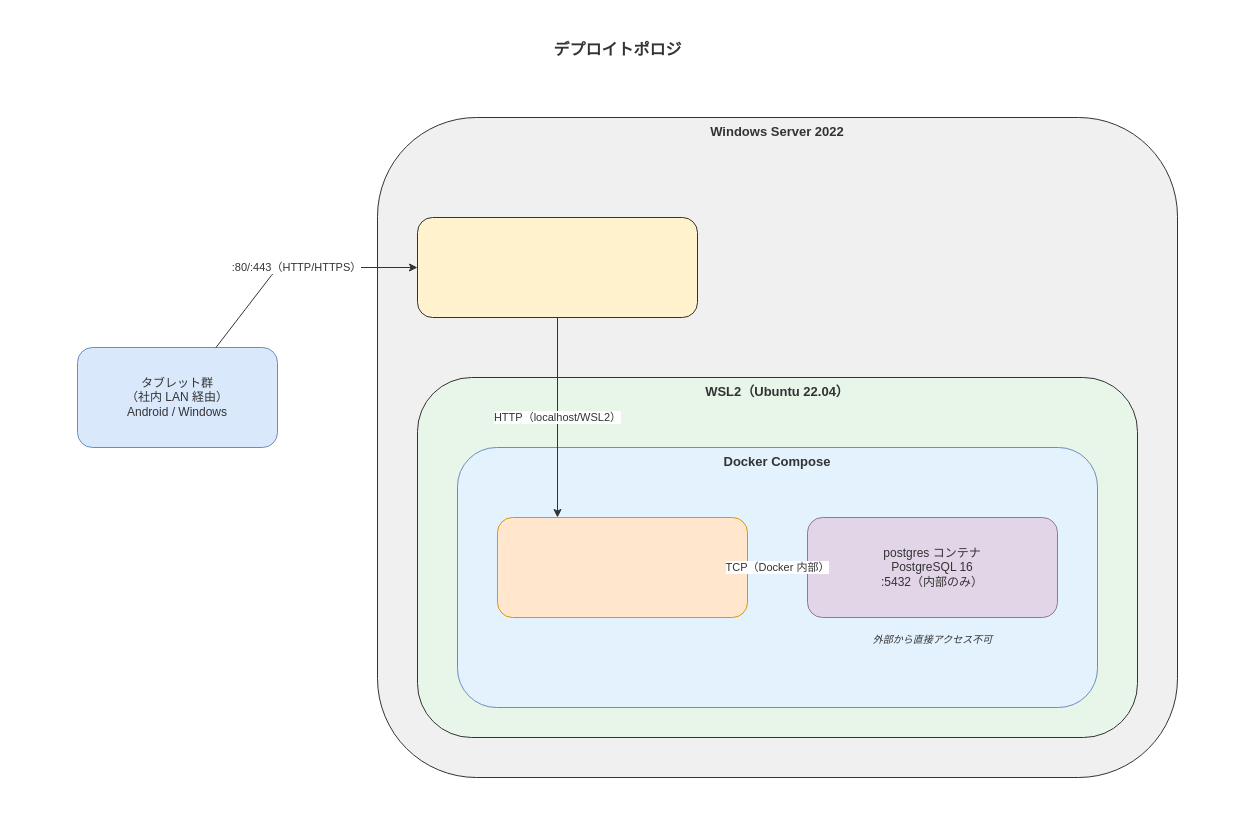
The diagram is 1234 pixels wide and 834 high, and some of its shapes have lost their labels. Here are the shapes that lost their labels. From the top down, the centre of each, then its label:
(x=557, y=267): IIS リバースプロキシ :80 / :443（社内 LAN 公開）
(x=622, y=567): axum-api コンテナ Rust バイナリ :3000（内部ポート）
